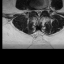CCS_normal: (37, 6, 40, 18)
LFS_stenosis: (43, 6, 45, 13)
LLS_normal: (40, 7, 42, 14)
RFS_severe_stenosis: (32, 7, 35, 13)
RLS_normal: (35, 7, 37, 15)
